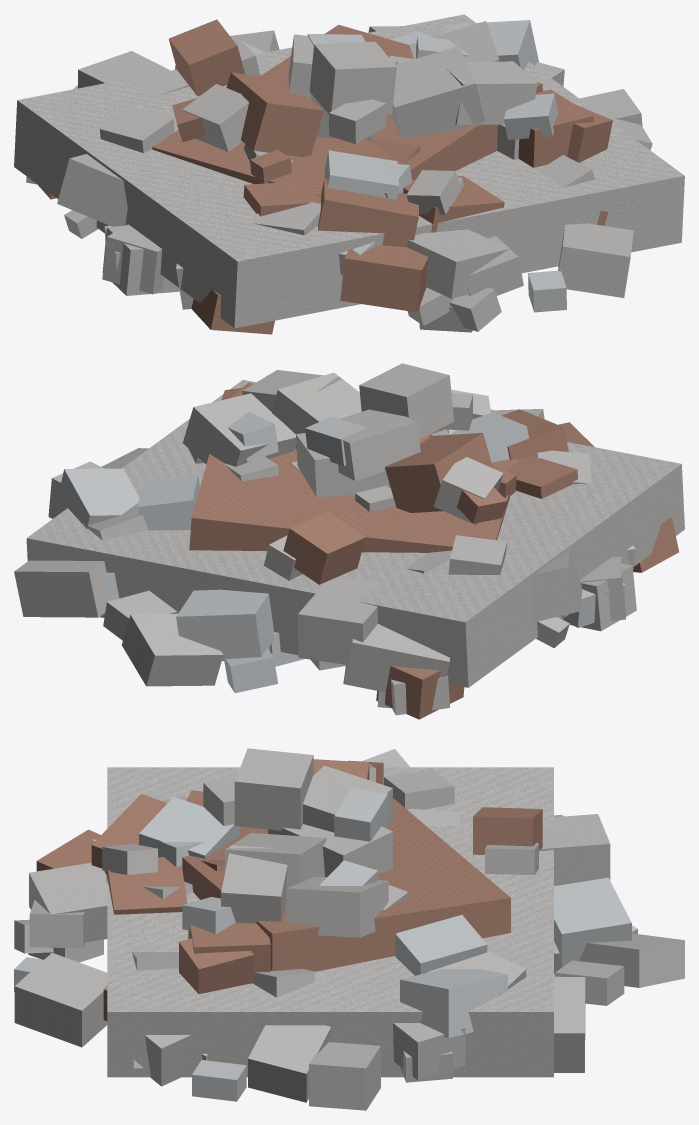
Rendered from demolition-and-site-clearance-demolition-and-site-clea-d3d0829d__35677.glb.
The picture shows the model from 3 angles, top to bottom: view 1: azimuth 30°, elevation 25°; view 2: azimuth 150°, elevation 25°; view 3: azimuth 270°, elevation 25°; orthographic projection. The views are drawn at different scales.
Parts seen in each view (by area): view 1: demolition-and-site-clearance-rubble-pile; view 2: demolition-and-site-clearance-rubble-pile; view 3: demolition-and-site-clearance-rubble-pile.
Part boxes in pixels (left/top/right/bottom): demolition-and-site-clearance-rubble-pile: left=14, top=14, right=684, bottom=334; demolition-and-site-clearance-rubble-pile: left=14, top=363, right=684, bottom=719; demolition-and-site-clearance-rubble-pile: left=14, top=748, right=684, bottom=1110.
Bounding box in the file's own units: 3.59 × 1.19 × 3.7.
Materials: 3 (2 with a texture image).
